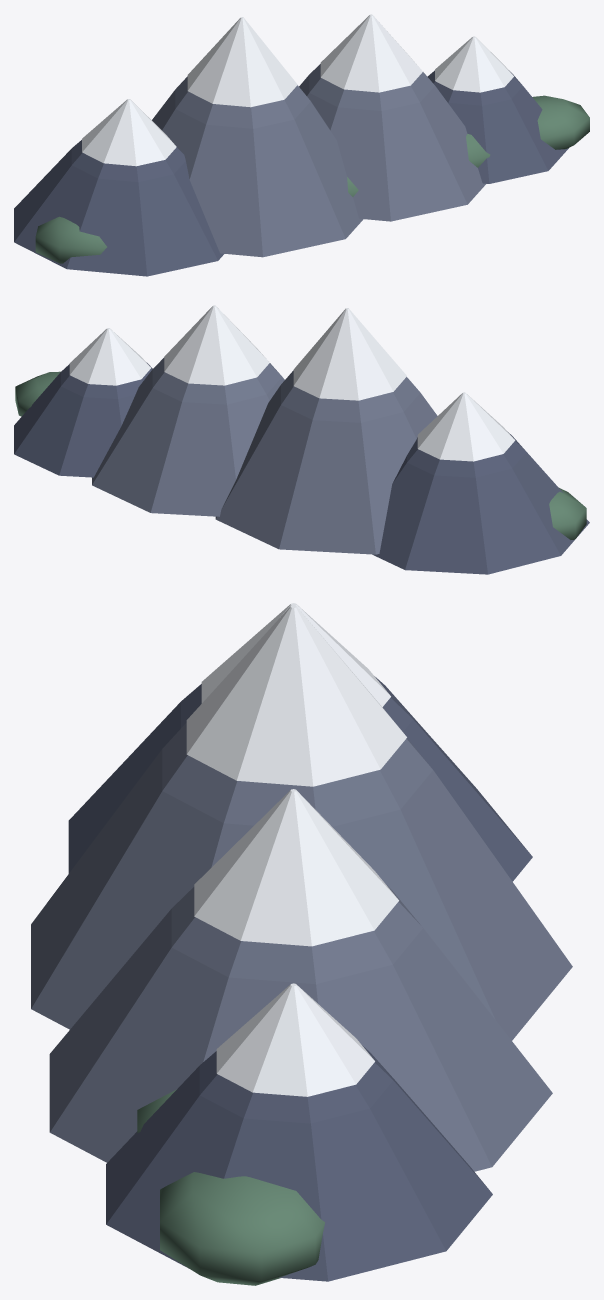
Rendered from MountainSnow.fbx.
3 renders of one model, top to bottom at view 1: azimuth 30°, elevation 25°; view 2: azimuth 150°, elevation 25°; view 3: azimuth 270°, elevation 25°, orthographic. The views are drawn at different scales.
Visible parts, largest first — view 1: Frame; view 2: Frame; view 3: Frame.
Boxes of the visible parts, x1,y1,x2,y2 form: Frame: (14,14,589,276); Frame: (14,305,589,574); Frame: (31,603,572,1285).
Bounding box in the file's own units: 31.72 × 11.2 × 13.58.
Materials: 1 (1 with a texture image).
